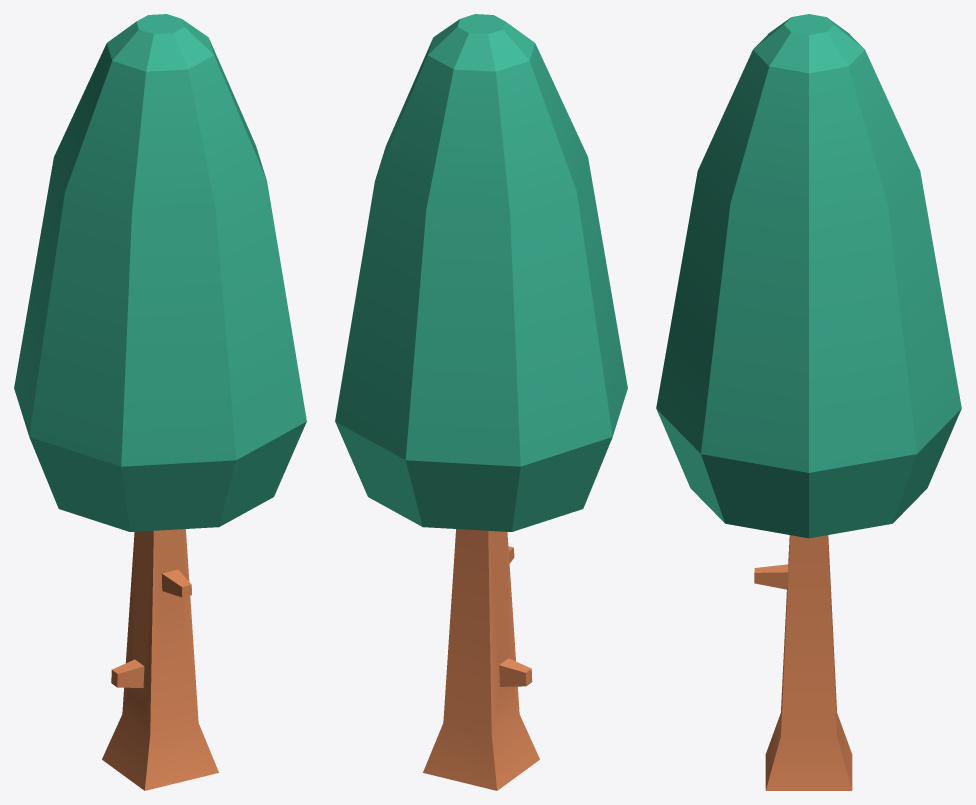
File: treeHighRound.obj
3 views of the same model, side by side, from view 1: azimuth 30°, elevation 25°; view 2: azimuth 150°, elevation 25°; view 3: azimuth 270°, elevation 25° (orthographic).
Parts seen in each view (by area): view 1: treeHighRound; view 2: treeHighRound; view 3: treeHighRound.
Part boxes in pixels (x1=…): treeHighRound: x1=14, y1=14, x2=306, y2=790; treeHighRound: x1=335, y1=14, x2=627, y2=790; treeHighRound: x1=656, y1=14, x2=961, y2=790.
Size of the model in its own units: 1.02 by 2.75 by 1.02.
